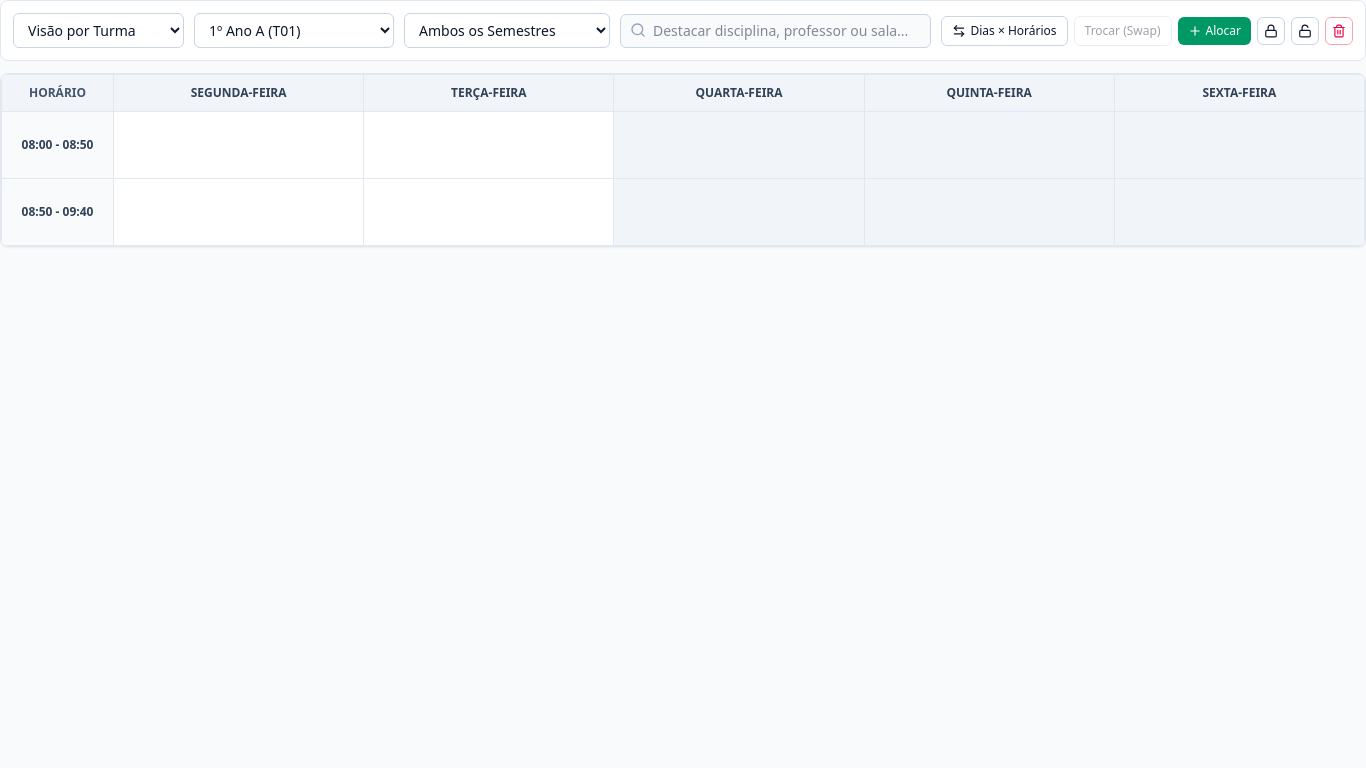
Test: AddLessonManualModal › passes active TURMA and PROFESSOR context from TimetableView when clicking + Alocar
This screenshot has width=1366, height=768.
Later steps or results of the test are not shown.
Click the button "Alocar". click: {"x": 1214, "y": 30}
box: [1178,16,1251,44]
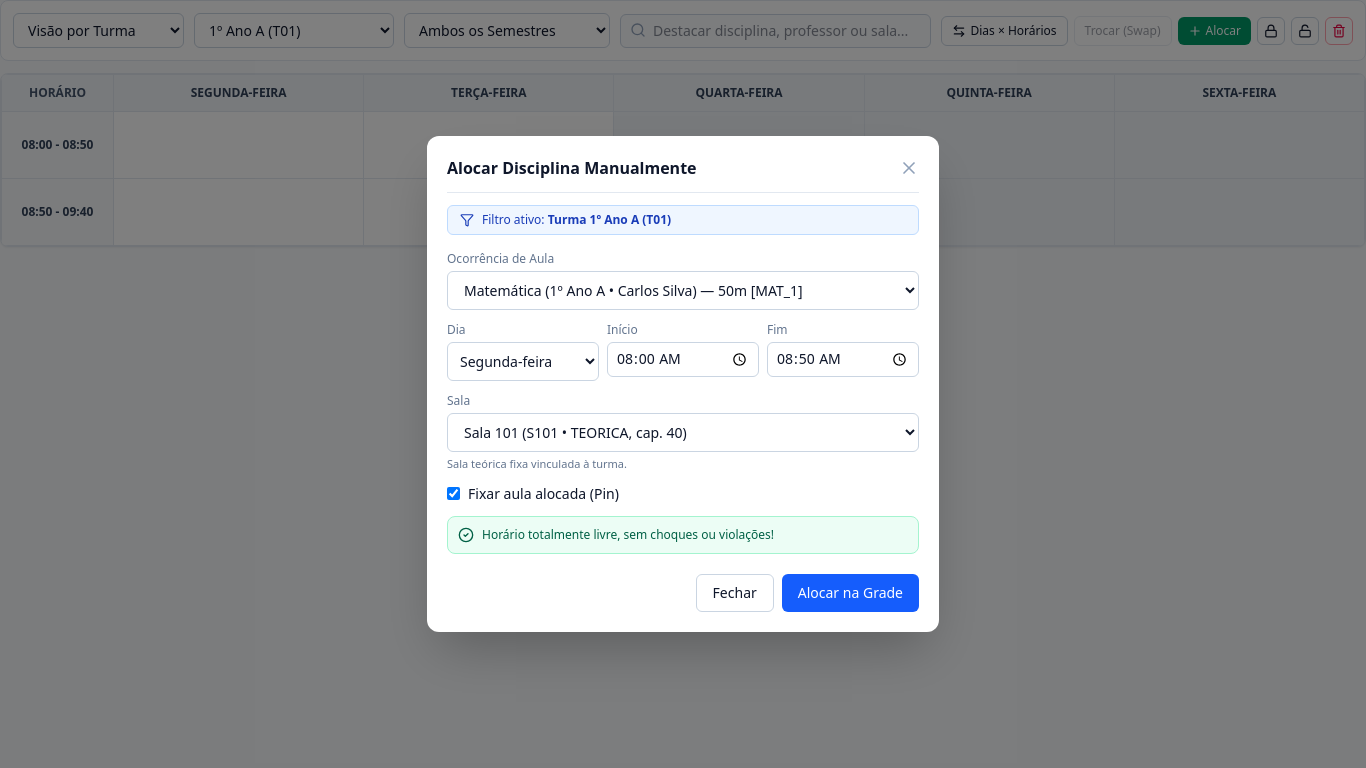
Now the text "Turma 1º Ano A (T01)" is shown, box [548,211,671,228]
